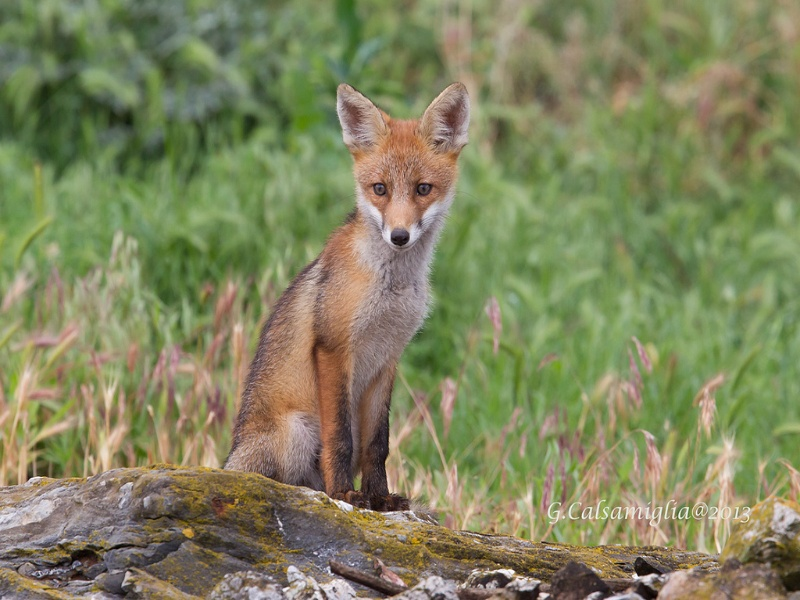fox: (200, 76, 473, 516)
